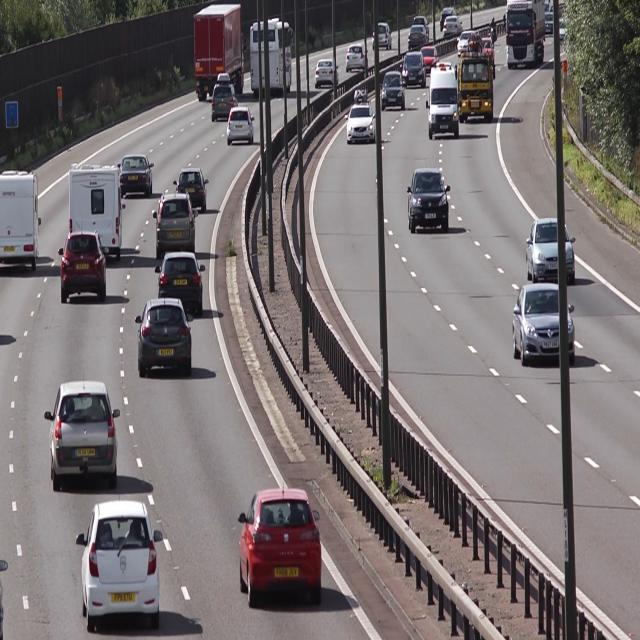Car: (235, 485, 326, 620), (76, 501, 164, 633), (46, 380, 120, 486), (66, 161, 124, 262), (512, 284, 576, 366), (193, 3, 245, 102), (0, 163, 42, 276), (135, 298, 193, 378), (154, 252, 207, 320), (455, 36, 495, 124), (528, 210, 575, 284), (250, 20, 294, 97), (59, 233, 108, 302), (426, 58, 461, 143), (505, 1, 547, 69), (154, 192, 197, 256), (408, 168, 450, 231), (173, 164, 210, 215), (345, 88, 377, 145), (119, 155, 154, 197), (209, 76, 239, 124), (226, 105, 257, 146), (382, 66, 406, 112), (313, 52, 340, 91), (402, 50, 426, 91), (346, 40, 370, 72), (372, 18, 394, 51), (421, 40, 438, 76)
